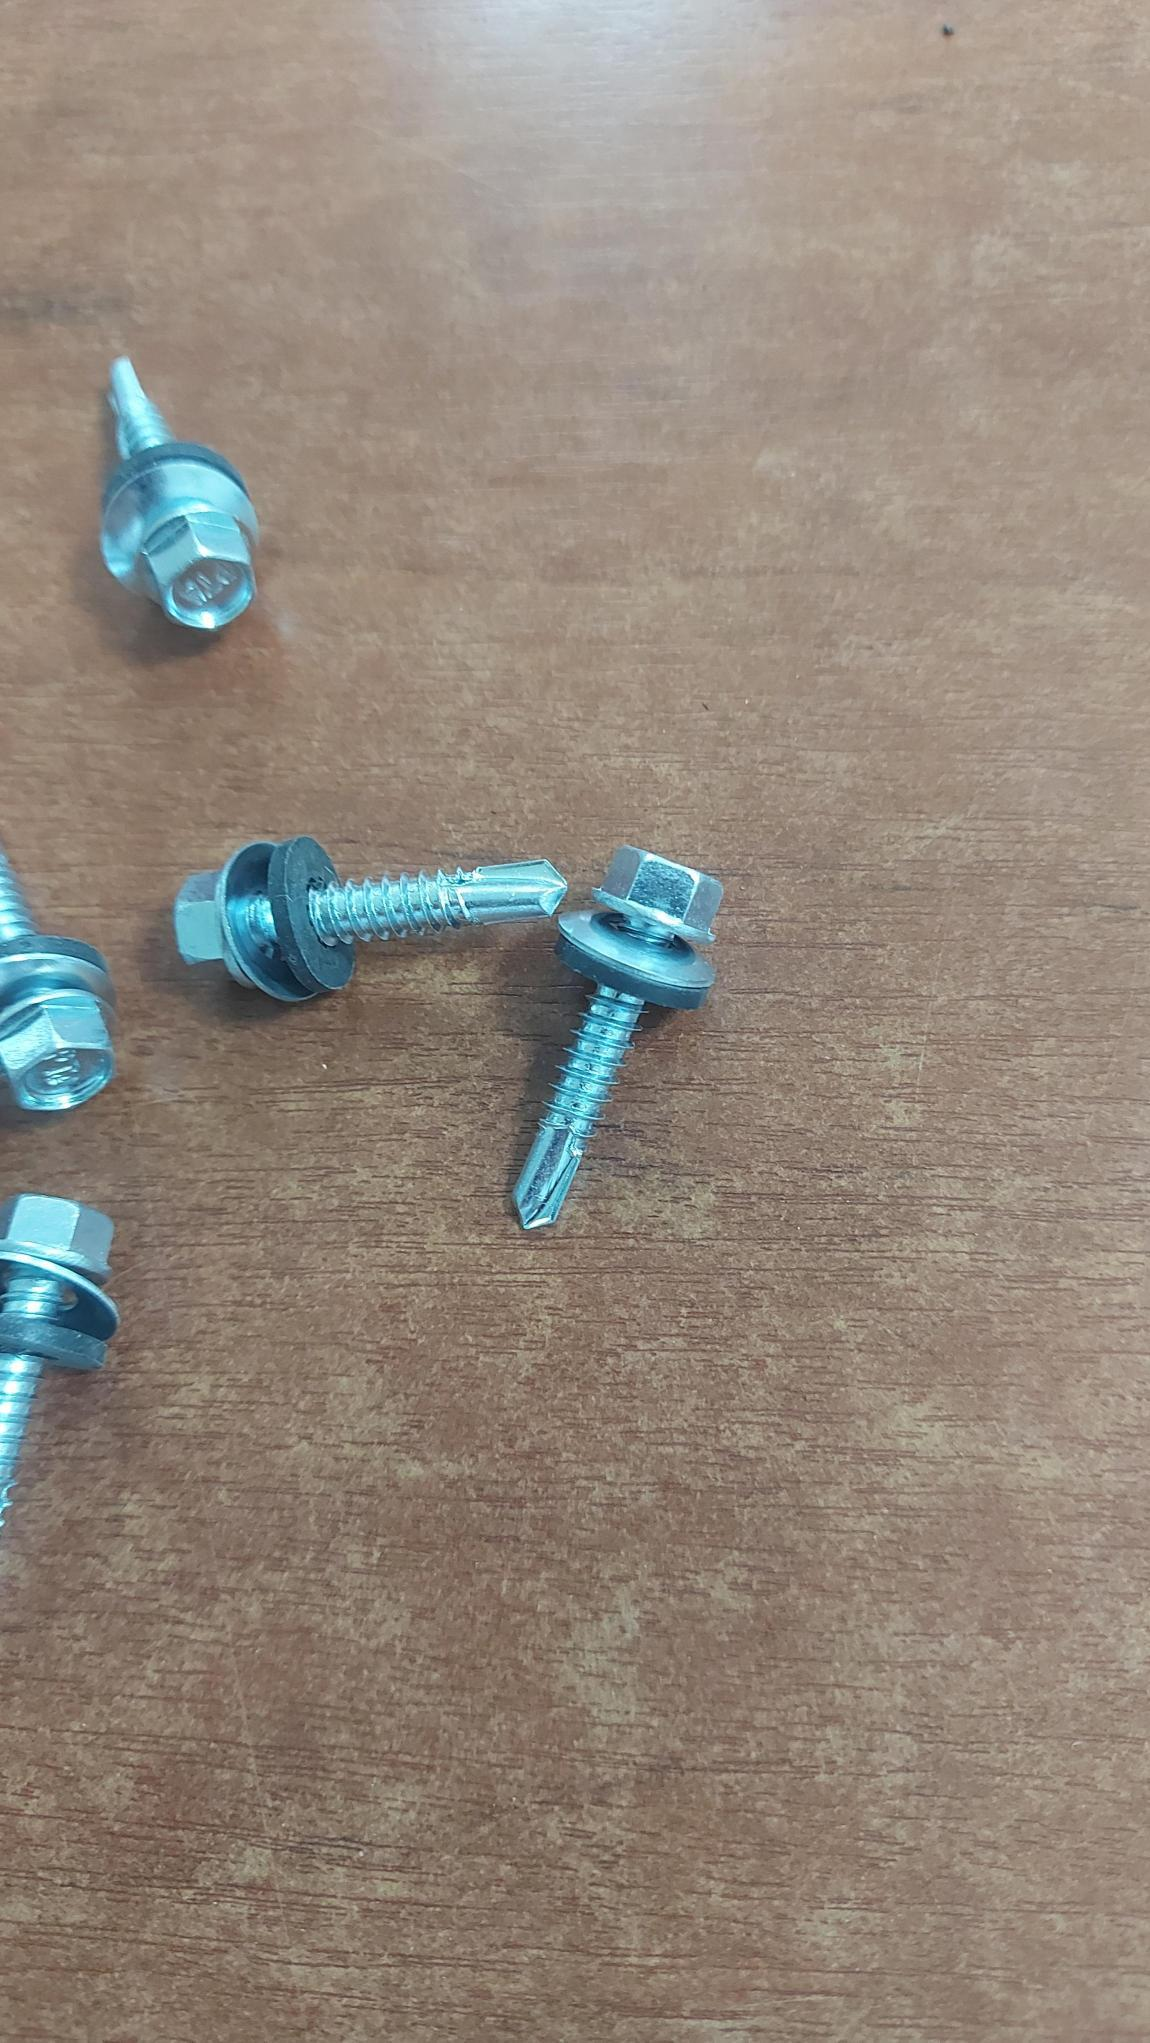Screw: (510, 850, 718, 1221), (172, 836, 567, 1003), (102, 356, 258, 631), (0, 1194, 118, 1524), (0, 848, 115, 1110)
